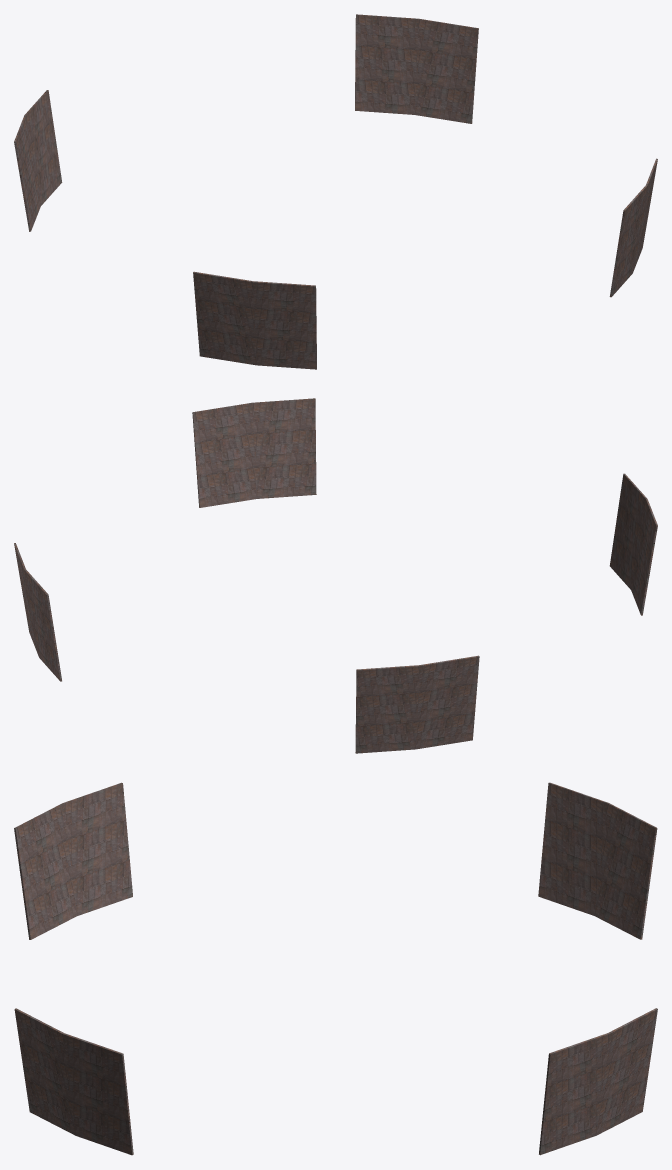
The model's file is SM_LDFest_24_Wire_col.fbx.
3 views of the same model, one above another, from view 1: azimuth 30°, elevation 25°; view 2: azimuth 150°, elevation 25°; view 3: azimuth 270°, elevation 25° (orthographic). The views are drawn at different scales.
Parts seen in each view (by area): view 1: SM_LDFest_24_Wire_col; view 2: SM_LDFest_24_Wire_col; view 3: SM_LDFest_24_Wire_col.
Part boxes in pixels (<box>): SM_LDFest_24_Wire_col: <box>14,14,657,369</box>; SM_LDFest_24_Wire_col: <box>14,398,657,753</box>; SM_LDFest_24_Wire_col: <box>14,782,657,1155</box>.
Size of the model in its own units: 3499 by 645 by 3499.
